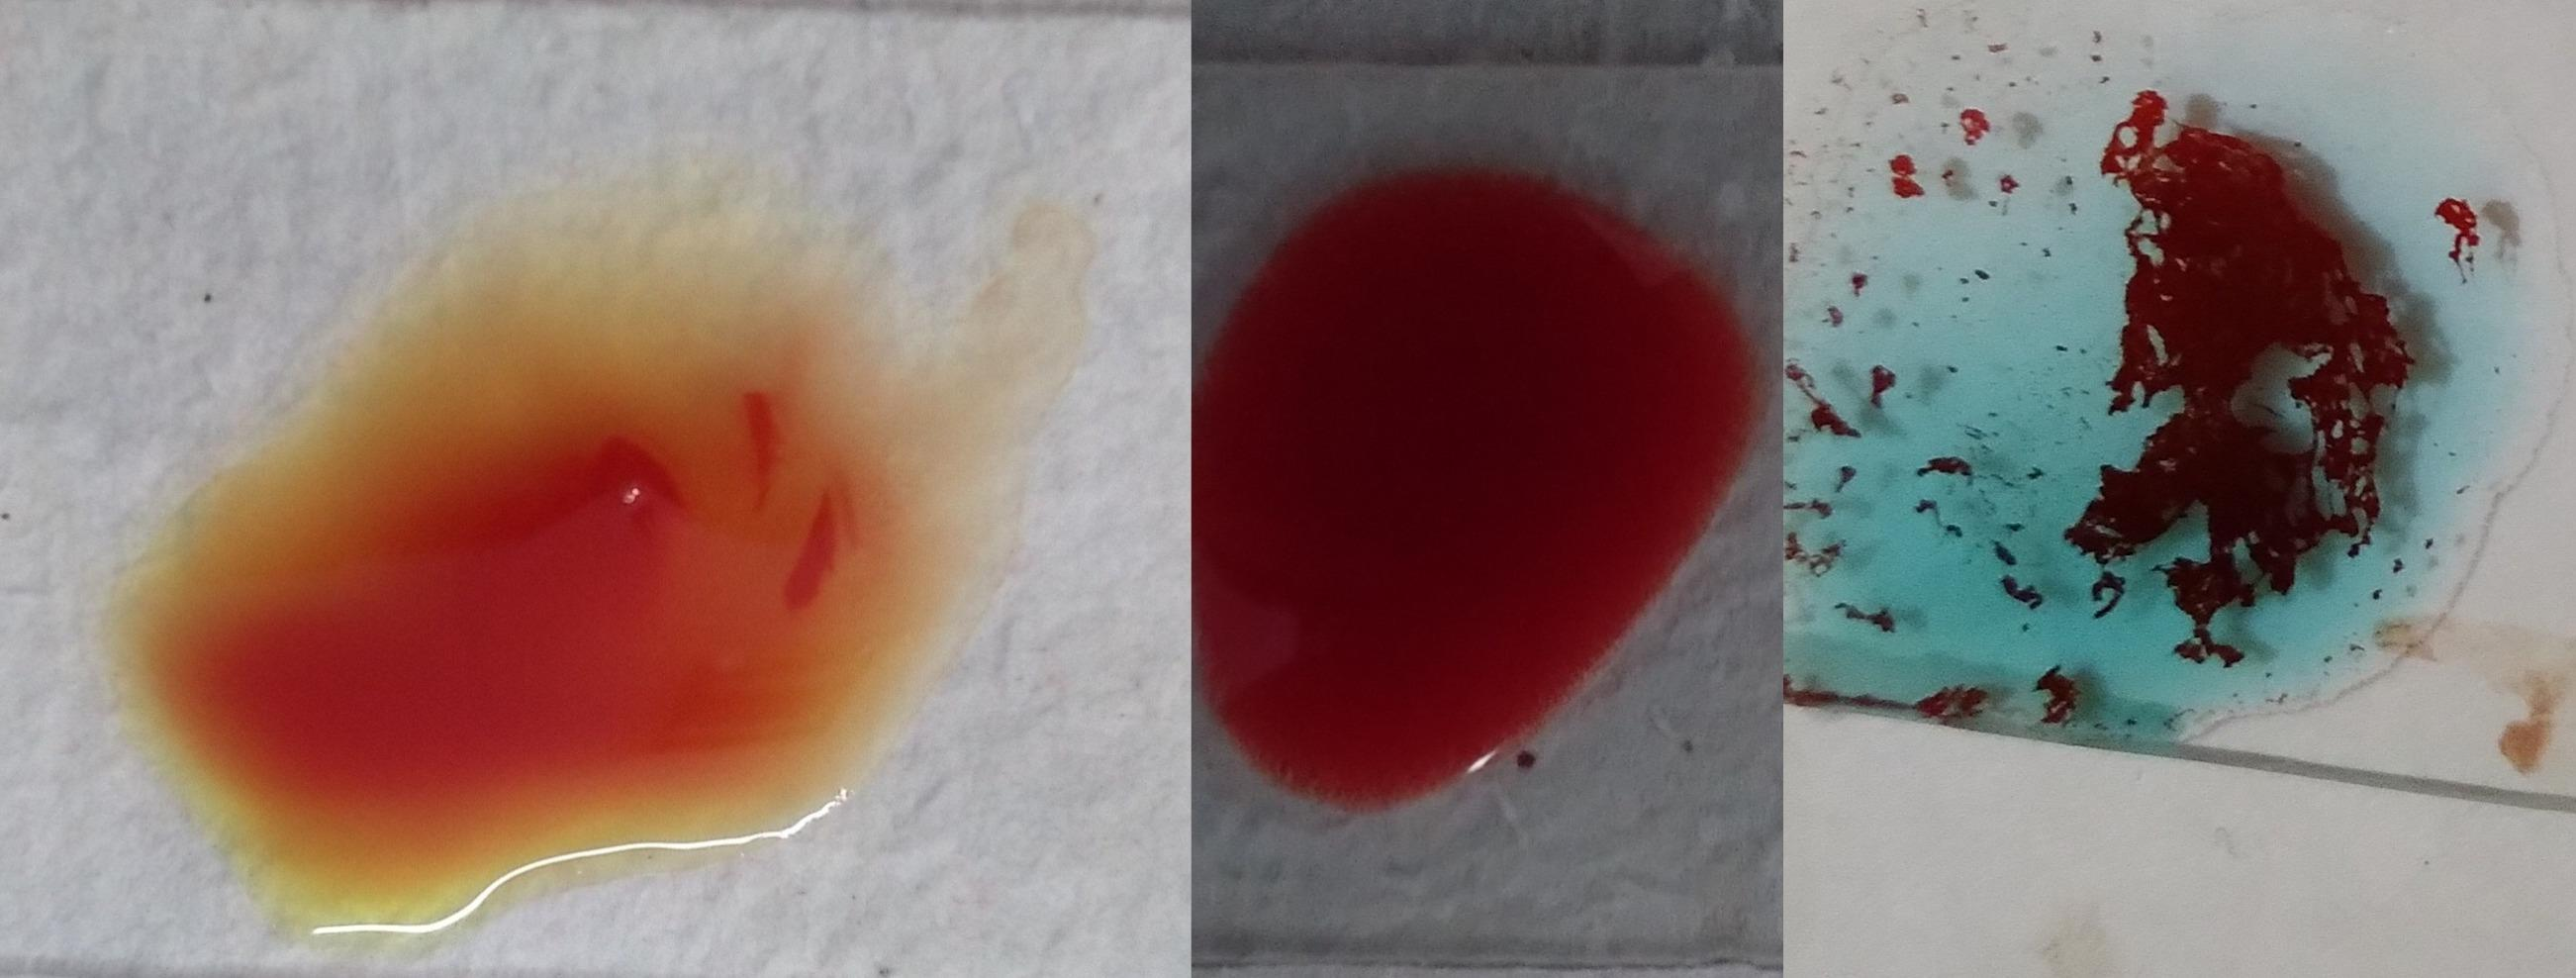A: (1784, 38, 2499, 730)
